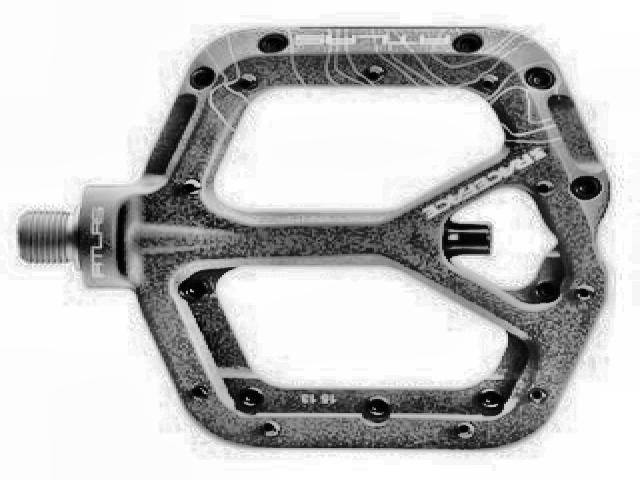pedal: (18, 24, 616, 458)
